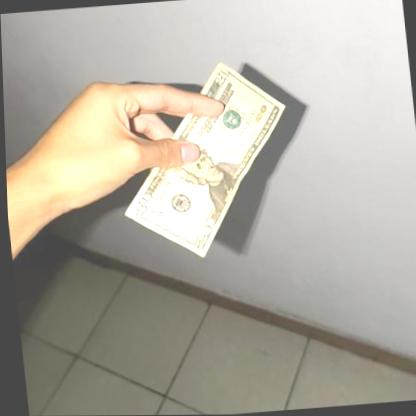twenty-front: (108, 57, 300, 267)
